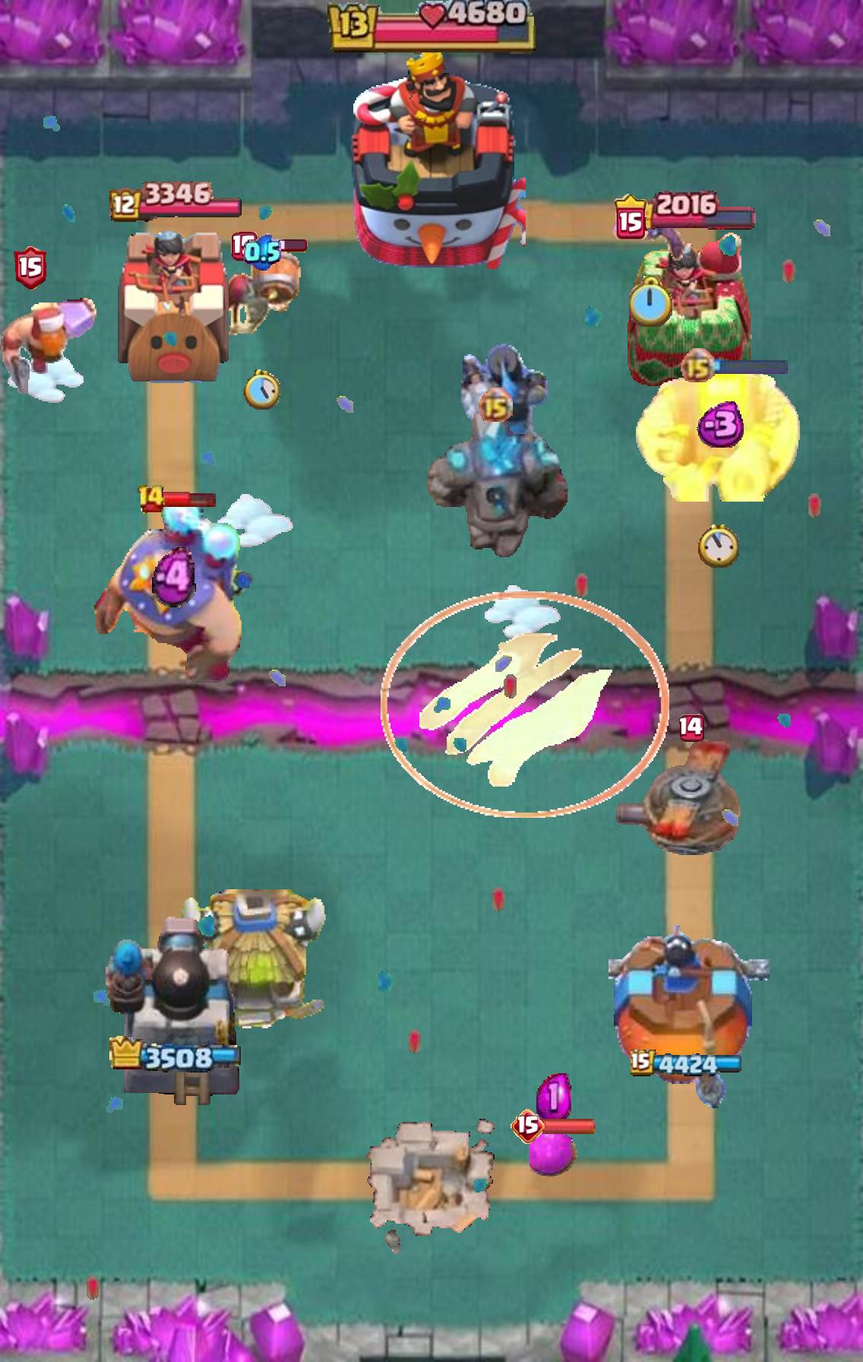elixir: (152, 547, 196, 608), (691, 401, 747, 447), (536, 1073, 571, 1122), (244, 234, 281, 271)
